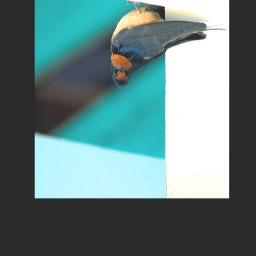Swallow: (107, 2, 227, 92)
